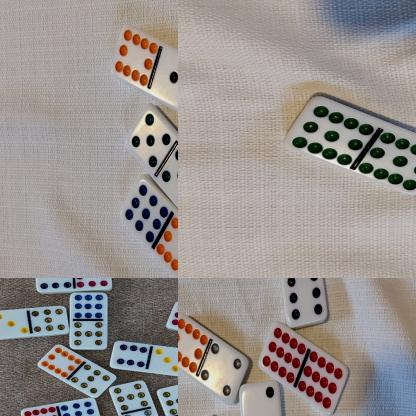pip-1: (155, 49, 178, 113)
pip-10: (111, 25, 159, 89), (178, 313, 209, 375), (38, 346, 84, 378), (157, 218, 178, 278)
pip-11: (285, 97, 375, 166), (359, 132, 416, 194)
pip-12: (298, 351, 349, 416), (260, 324, 306, 385), (20, 405, 61, 416)
pip-2: (240, 385, 281, 416)
pip-3: (0, 309, 30, 341), (149, 346, 178, 376)
pip-4: (201, 344, 248, 404)
pip-5: (128, 108, 172, 168), (162, 147, 178, 214)
pip-6: (286, 278, 329, 325), (110, 341, 150, 372), (34, 278, 73, 293)
pip-7: (70, 366, 118, 399), (109, 380, 149, 412), (70, 321, 108, 351), (31, 306, 69, 336), (157, 382, 178, 415)
pip-8: (74, 278, 114, 290), (166, 300, 178, 332)
pip-9: (121, 185, 168, 243), (69, 292, 110, 321), (60, 398, 101, 416)
